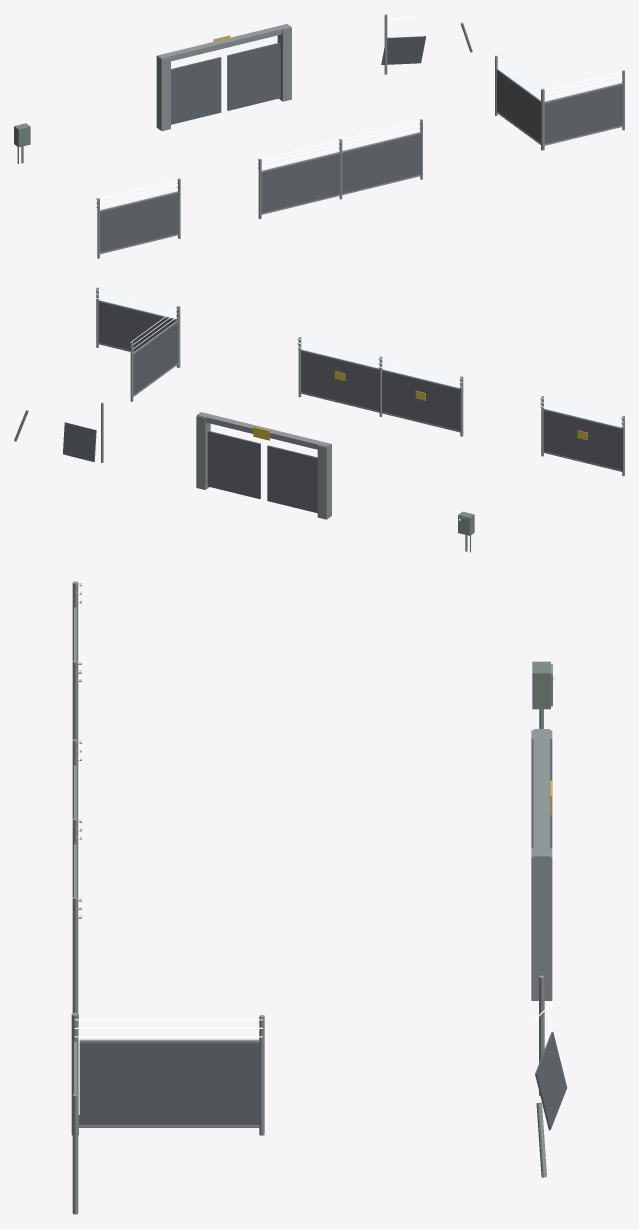
File: electric_fence_set.glb
3 views of the same model, one above another, from view 1: azimuth 30°, elevation 25°; view 2: azimuth 150°, elevation 25°; view 3: azimuth 270°, elevation 25° (orthographic). The views are drawn at different scales.
Visible parts, largest first — view 1: Mesh_8m, Mesh_4m, CornerMesh_X, GateDoor_R, GateDoor_L, CornerMesh_Y, GateGantry, GatePillar_L, TornMesh_1, GatePillar_R, Rail_Top_8m, PowerBoxCabinet; view 2: Mesh_8m, Mesh_4m, GateDoor_R, GateDoor_L, CornerMesh_X, CornerMesh_Y, GateGantry, GatePillar_L, TornMesh_1, GatePillar_R, Rail_Top_8m; view 3: CornerMesh_Y, GatePillar_R, GateGantry, TornMesh_1, PowerBoxCabinet, CornerRail_Top_Y.
Part boxes in pixels (x1,y1,x2,y2): Mesh_8m: (261,134,420,213); Mesh_4m: (100,193,178,252); CornerMesh_X: (544,84,622,144); GateDoor_R: (227,42,280,110); GateDoor_L: (171,57,221,124); CornerMesh_Y: (496,71,540,143); GateGantry: (157,24,290,63); GatePillar_L: (156,56,170,131); TornMesh_1: (381,36,425,64); GatePillar_R: (277,27,291,101); Rail_Top_8m: (261,132,420,172); PowerBoxCabinet: (14,123,30,147); Mesh_8m: (301,351,460,430); Mesh_4m: (543,410,622,470); GateDoor_R: (207,430,260,498); GateDoor_L: (267,445,317,513); CornerMesh_X: (98,302,175,351); CornerMesh_Y: (133,322,177,395); GateGantry: (197,412,331,451); GatePillar_L: (317,444,331,519); TornMesh_1: (63,422,96,461); GatePillar_R: (196,415,210,489); Rail_Top_8m: (300,349,460,389); CornerMesh_Y: (79,1043,259,1124); GatePillar_R: (531,848,552,1000); GateGantry: (533,729,549,866); TornMesh_1: (535,1032,567,1130); PowerBoxCabinet: (532,661,550,709); CornerRail_Top_Y: (79,1039,259,1043).
Bounding box in the file's own units: 26.11 × 3.53 × 10.63.
